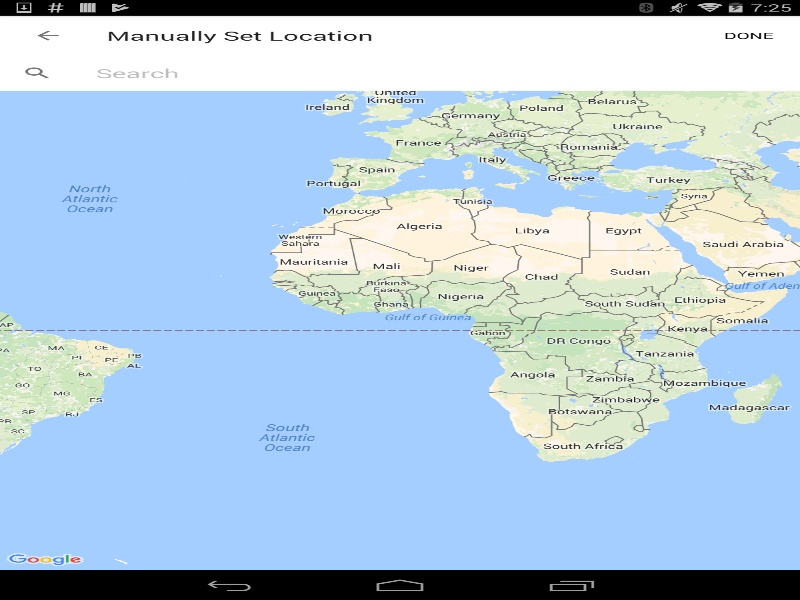Button: (10, 15, 85, 55), (0, 55, 74, 90)
Input: (74, 55, 800, 90)
